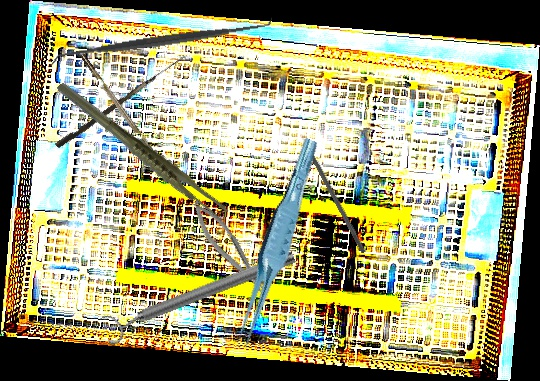Chopper: (80, 49, 172, 174)
Fixation Ring: (98, 242, 301, 347)
Hook Surgical: (54, 49, 186, 152), (298, 132, 368, 254)
Needle Holder: (185, 194, 273, 304)
Spatula Surgical: (48, 13, 275, 70)
Tissue Forceps: (54, 54, 232, 247), (218, 136, 334, 351)
